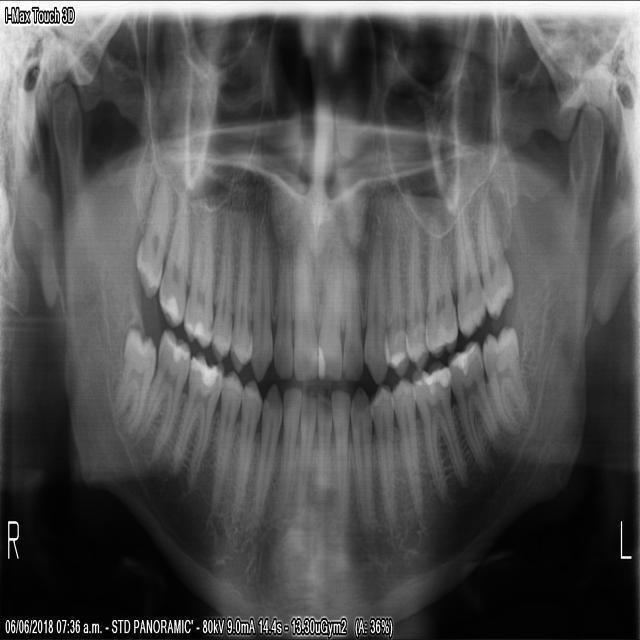LCD: (347, 383, 372, 531)
LCU: (361, 236, 386, 384)
LID: (327, 387, 348, 523), (314, 388, 331, 506)
LIU: (314, 260, 339, 380), (339, 260, 360, 381)
LMD: (408, 358, 465, 503), (443, 338, 503, 468), (480, 323, 529, 431)
LMU: (422, 218, 456, 357), (474, 197, 511, 323), (451, 205, 484, 337)
LPMD: (387, 375, 421, 520), (367, 385, 393, 527)
LPMU: (381, 237, 407, 376), (403, 225, 426, 370)
RCD: (250, 380, 280, 527)
RCU: (246, 223, 269, 380)
RID: (275, 384, 299, 511), (295, 391, 314, 508)
RIU: (289, 244, 315, 380), (269, 242, 291, 380)
RMD: (130, 327, 189, 460), (170, 351, 223, 486), (110, 325, 155, 431)
RMU: (131, 172, 172, 296), (156, 192, 188, 326), (181, 206, 211, 345)
RPMD: (206, 371, 242, 511), (227, 378, 259, 522)
RPMU: (227, 226, 250, 372), (208, 215, 230, 362)
